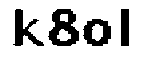8: (48, 6, 80, 50)
k: (9, 4, 44, 52)
l: (116, 2, 138, 50)
o: (82, 17, 112, 47)
